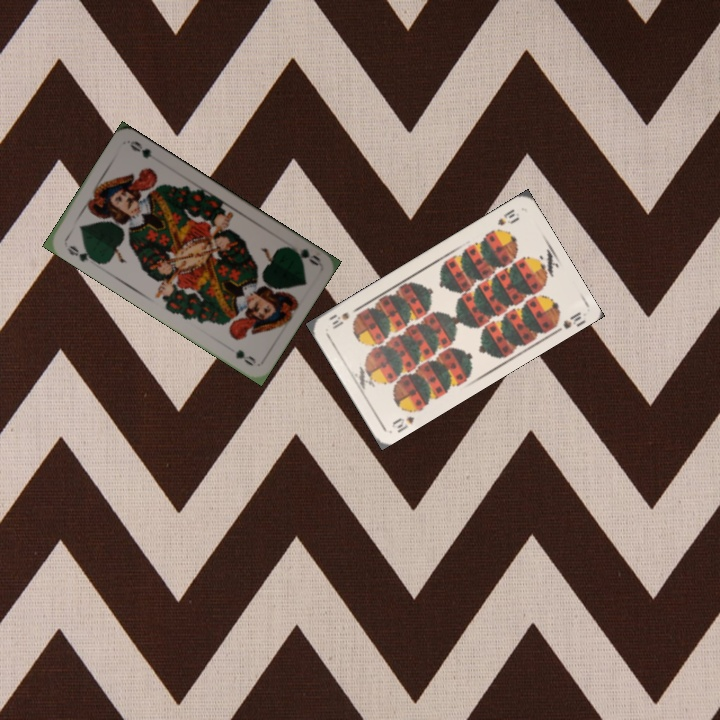GO: (284, 242, 323, 268), (63, 241, 98, 264)
S10: (388, 404, 422, 435), (493, 205, 521, 228)
